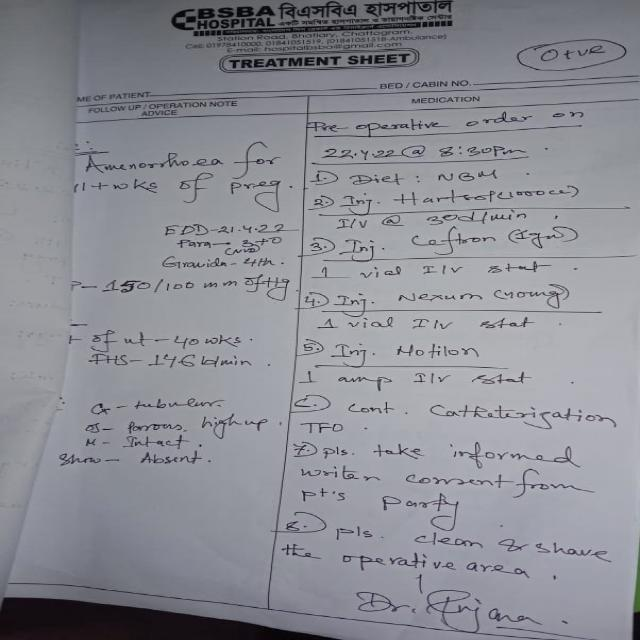Ceftron: (407, 229, 503, 251)
Hartsol: (384, 191, 495, 208)
Motilon: (386, 342, 490, 362)
Nexum: (397, 287, 490, 305)
